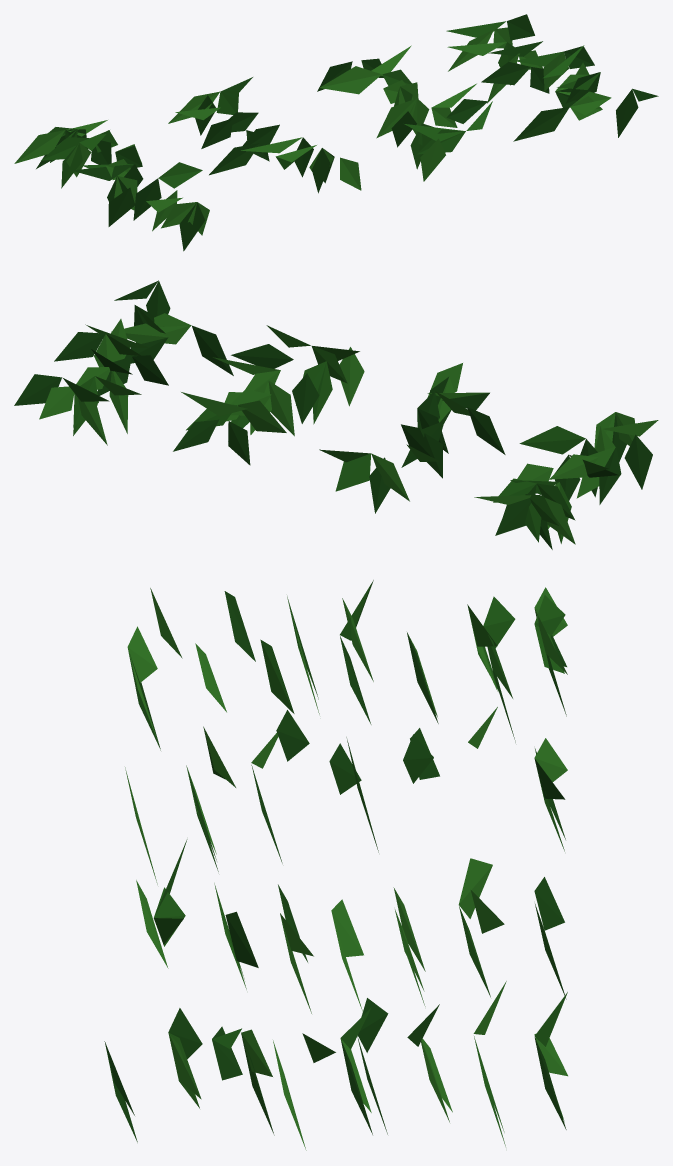
3 views of the same model, one above another, from view 1: azimuth 30°, elevation 25°; view 2: azimuth 150°, elevation 25°; view 3: azimuth 270°, elevation 25° (orthographic). The views are drawn at different scales.
Parts seen in each view (by area): view 1: r10c5_l01; view 2: r10c5_l01; view 3: r10c5_l01.
Part boxes in pixels (x1,y1,x2,y2): r10c5_l01: (14, 14, 658, 251); r10c5_l01: (14, 280, 658, 549); r10c5_l01: (104, 580, 567, 1150).
Size of the model in its own units: 1.72 by 0.2145 by 0.6432.
